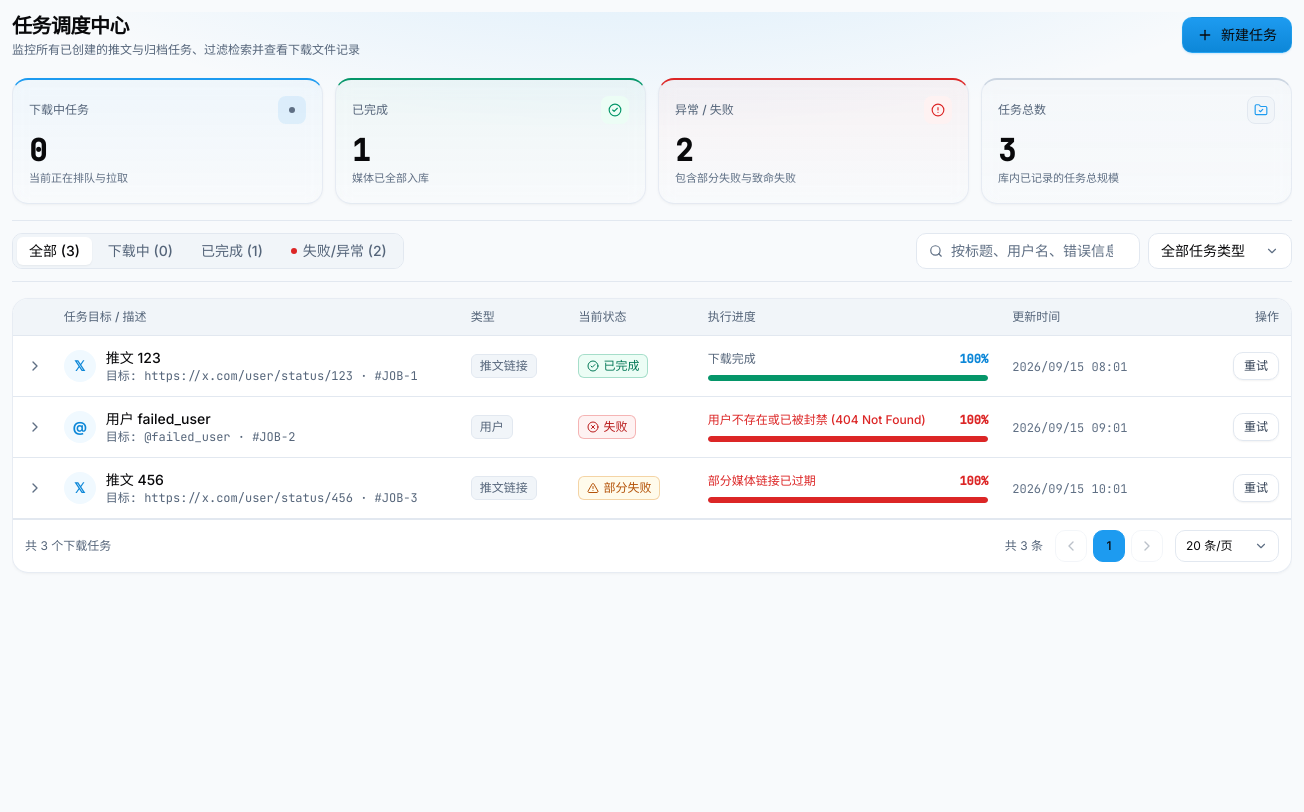
Test: TaskCenterPage › 状态筛选与搜索支持过滤失败任务
The width and height of the screenshot is (1304, 812).
# 点击失败/异常分类
Click the radio button "失败/异常 (2)" at [339, 250], box [279,236,399,264]
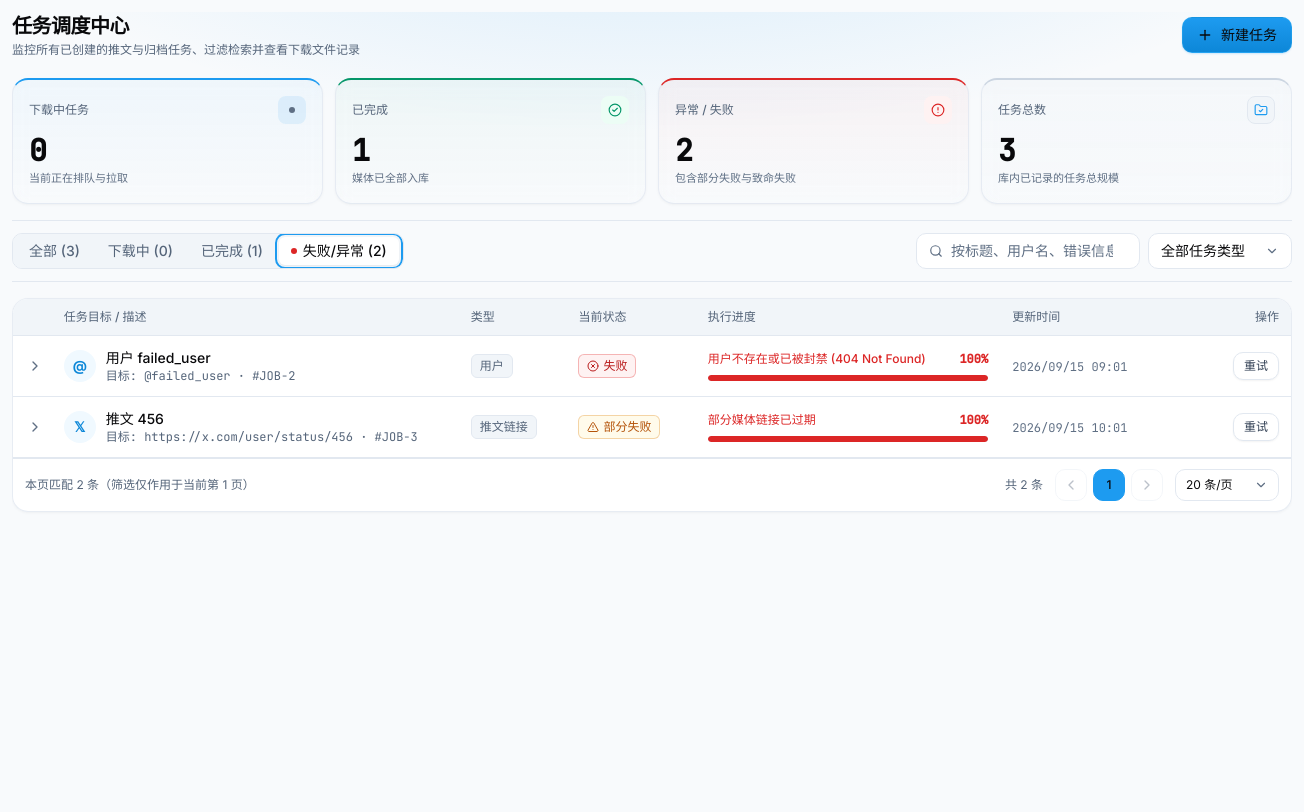
Check: the text "用户 failed_user" is shown, box [106,348,211,366]
Check: the text "推文 123" is gone
# 搜索特定错误关键词
Type "封禁" into the search field with placeholder "按标题、用户名、错误信息或 ID 搜索..." at [1039, 250], box [951,240,1127,260]
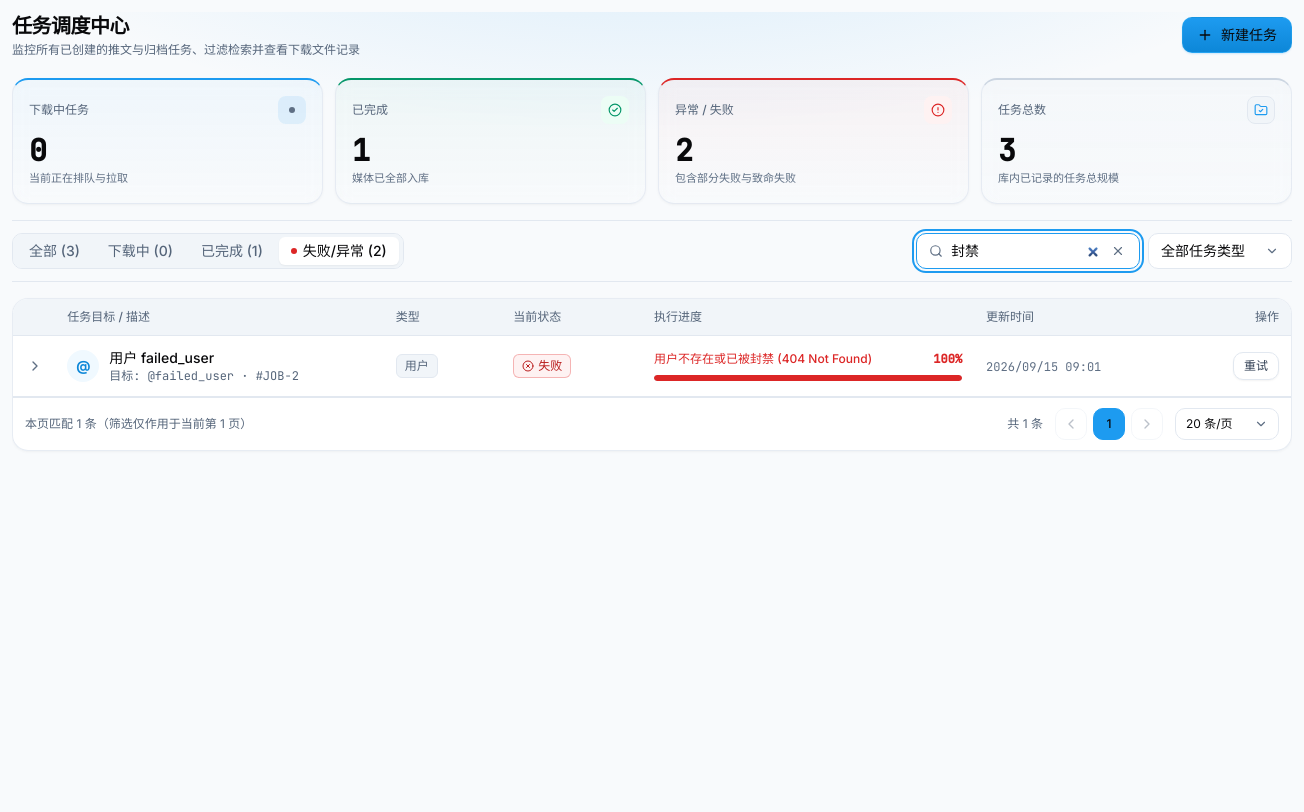
Check: the text "用户 failed_user" is shown, box [109,348,214,366]
Check: the text "推文 456" is gone
